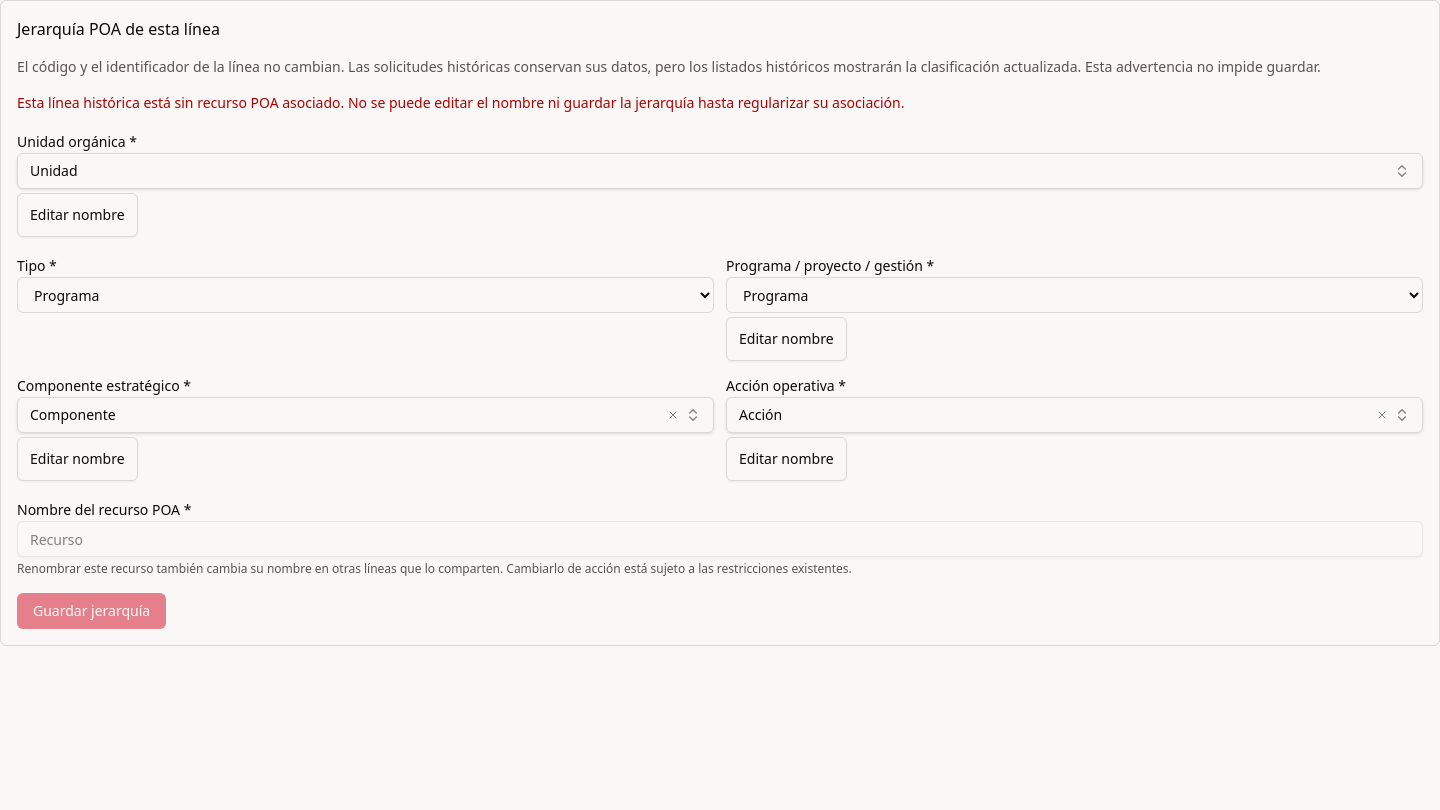
Test: rename newly persisted hierarchy nodes › retains selection and the dialog on a 403 rename response
Click the button named "Componente estratégico *" at (73, 414), box x1=17 y1=397 x2=714 y2=433
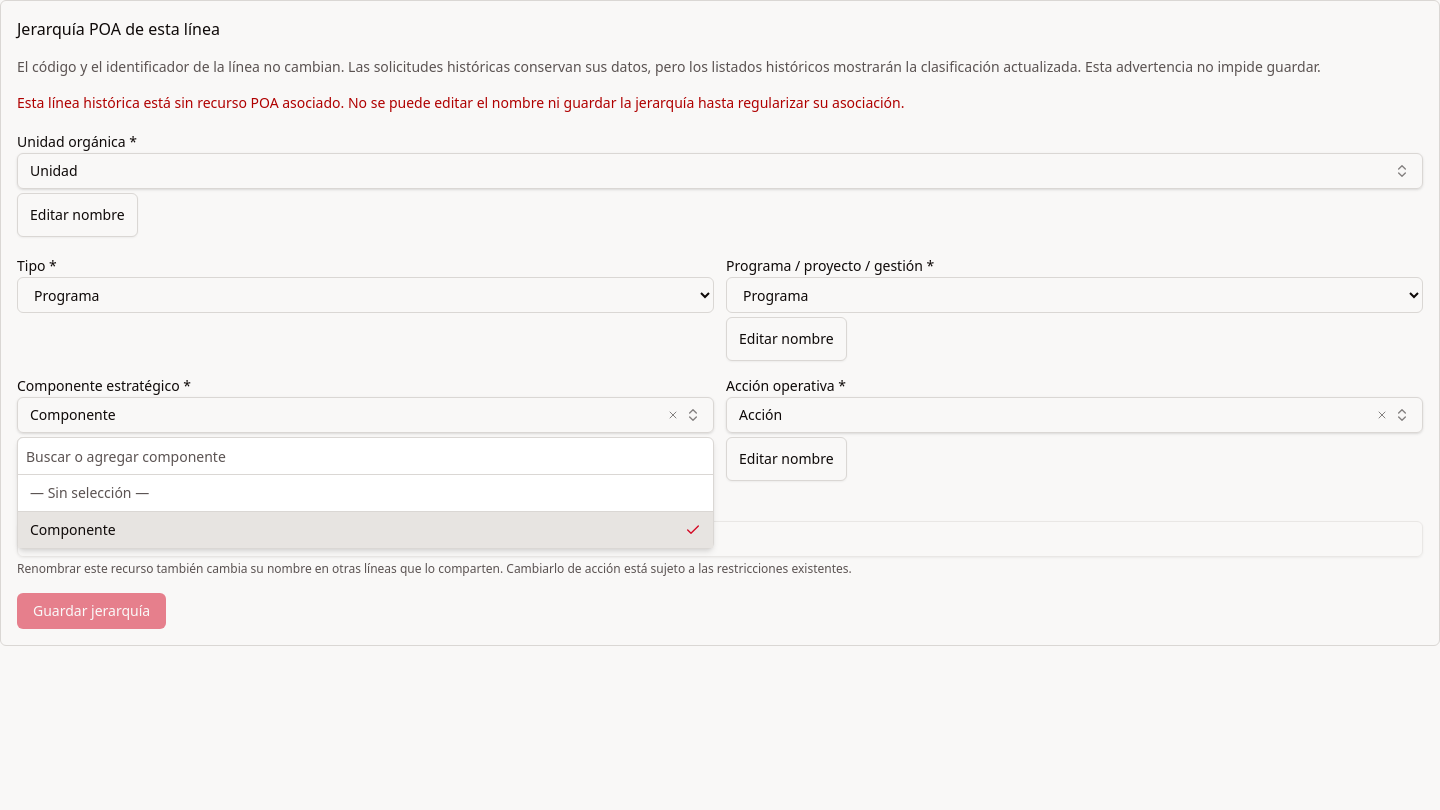
Type "Componente creado" into the field with placeholder "Buscar o agregar componente" at (366, 457), box x1=26 y1=447 x2=705 y2=467
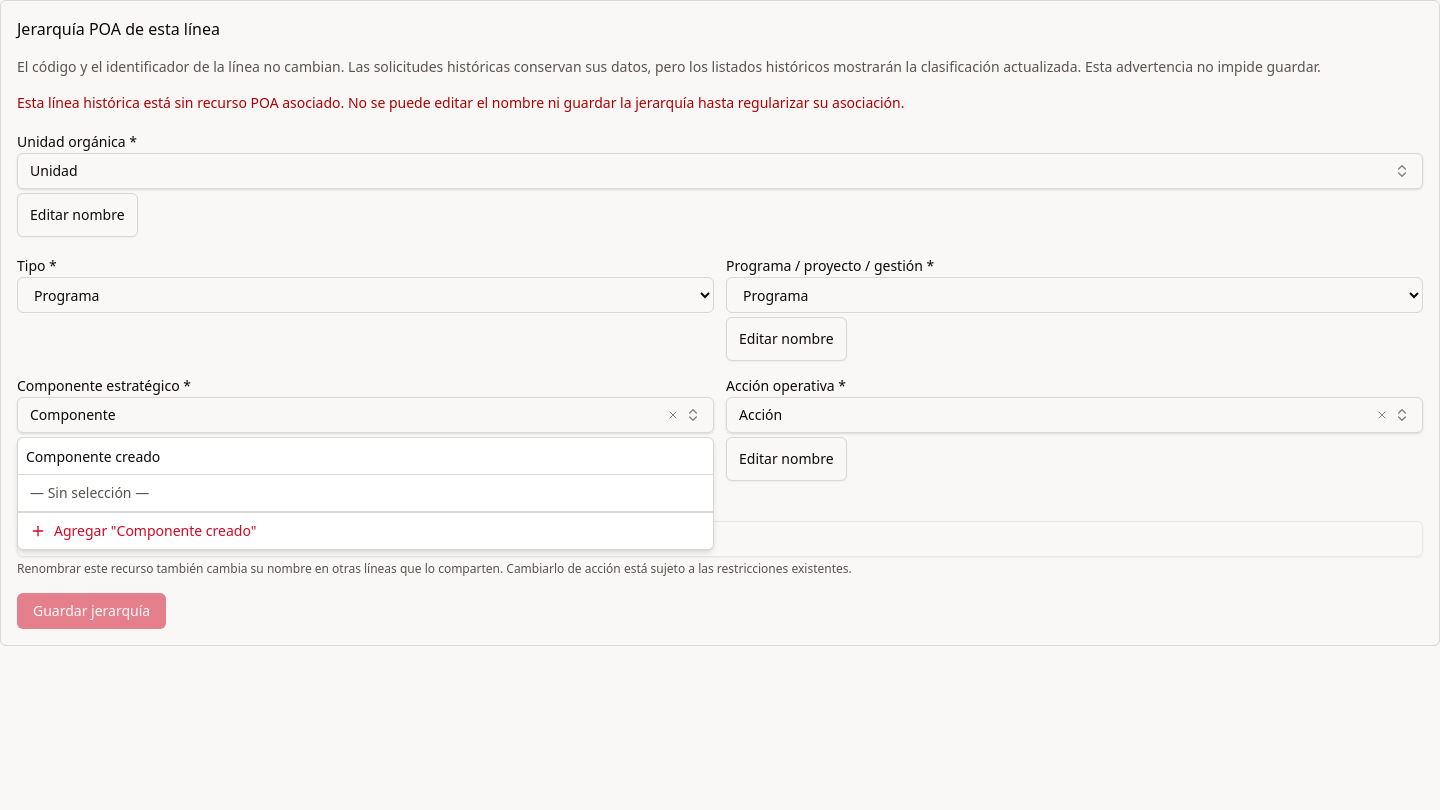
Click the button "Agregar \"Componente creado\"" at (155, 530), box x1=18 y1=512 x2=713 y2=549
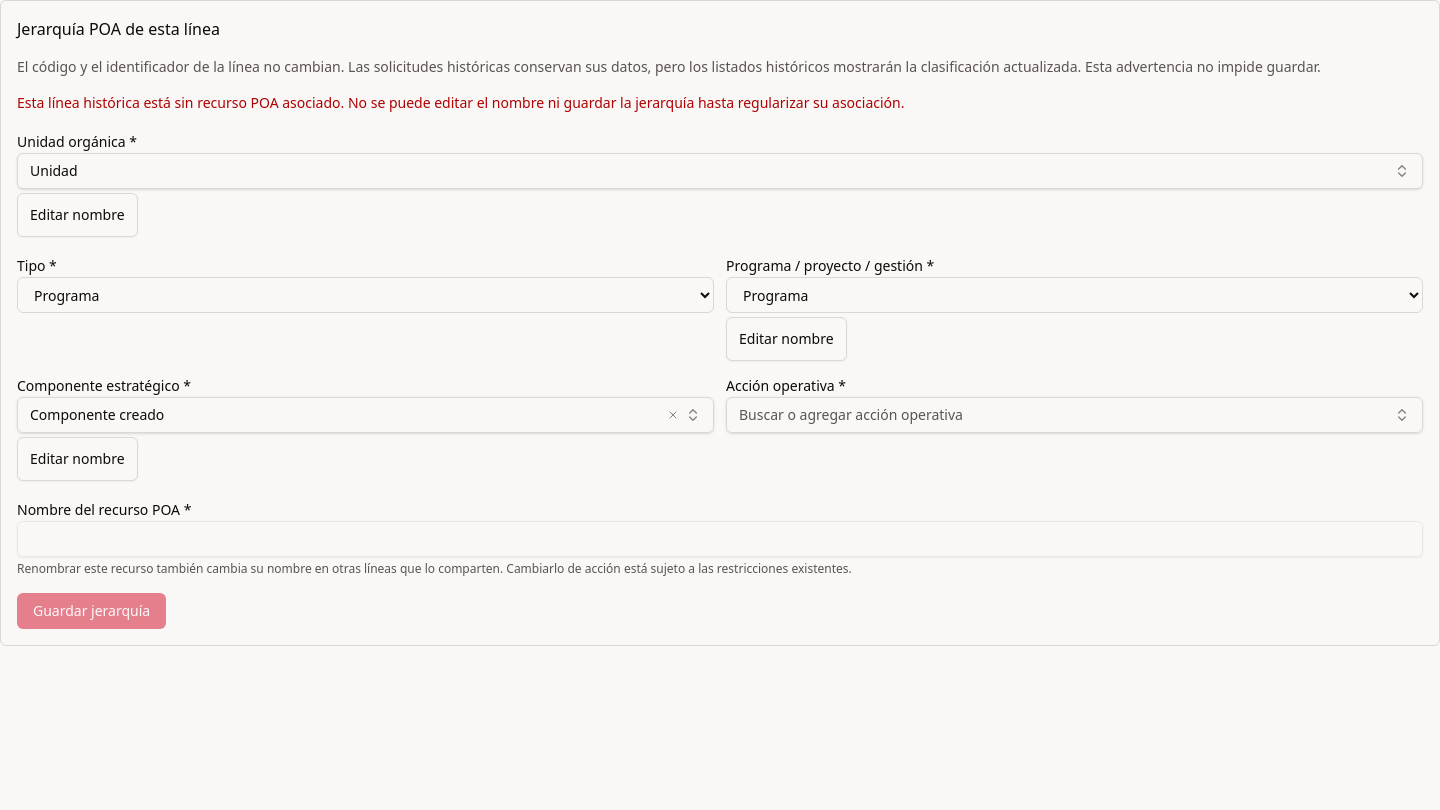
Check: the button named "Componente estratégico *" reads "Componente creado", box x1=17 y1=397 x2=714 y2=433
Click the button with aria-label "Editar nombre de Componente estratégico" at (77, 459), box x1=17 y1=437 x2=138 y2=481
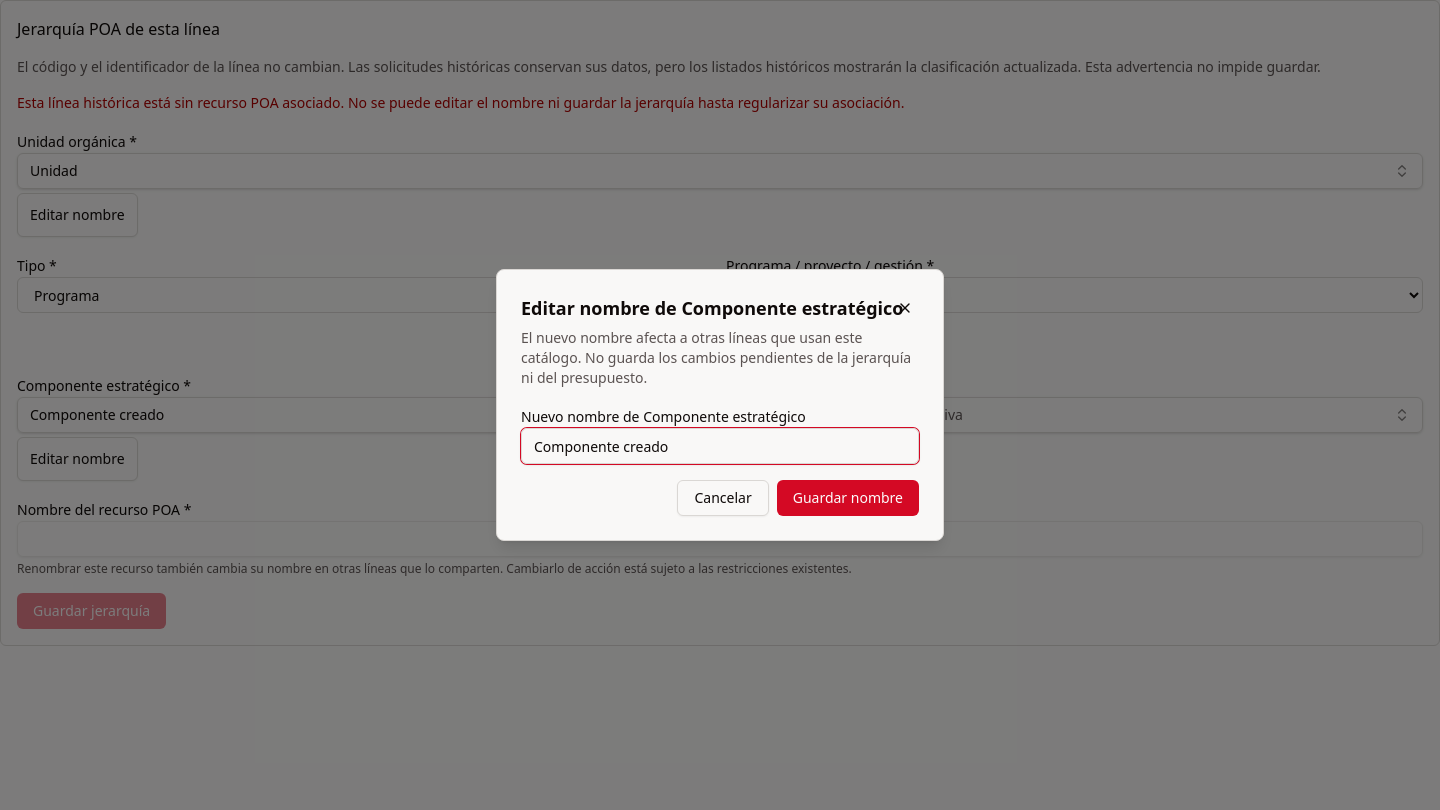
Click the button "Guardar nombre" at (848, 498), box x1=777 y1=480 x2=919 y2=516
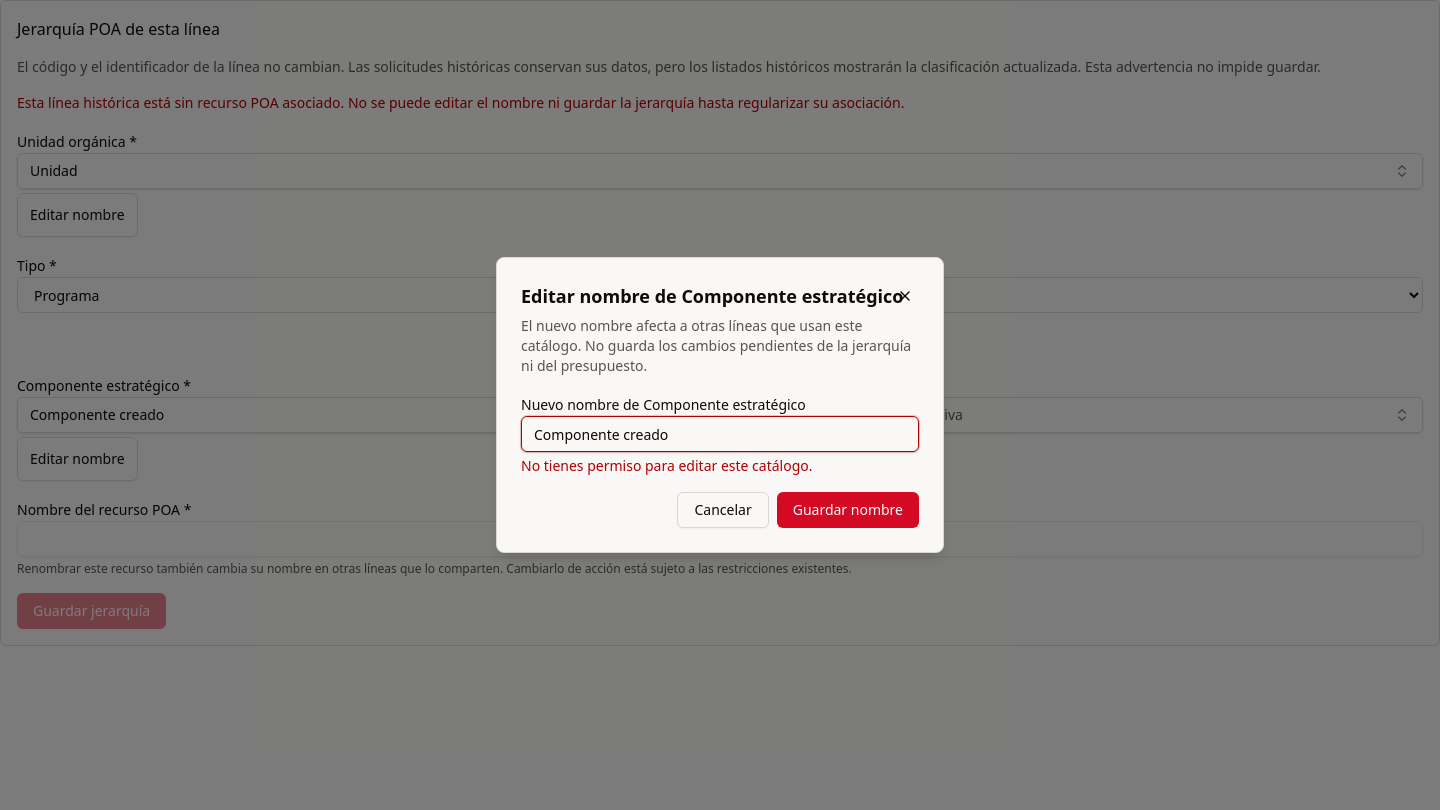
Check: the button named "Componente estratégico *" reads "Componente creado", box x1=17 y1=397 x2=714 y2=433
Check: the message shows "No tienes permiso", box x1=521 y1=456 x2=812 y2=475
